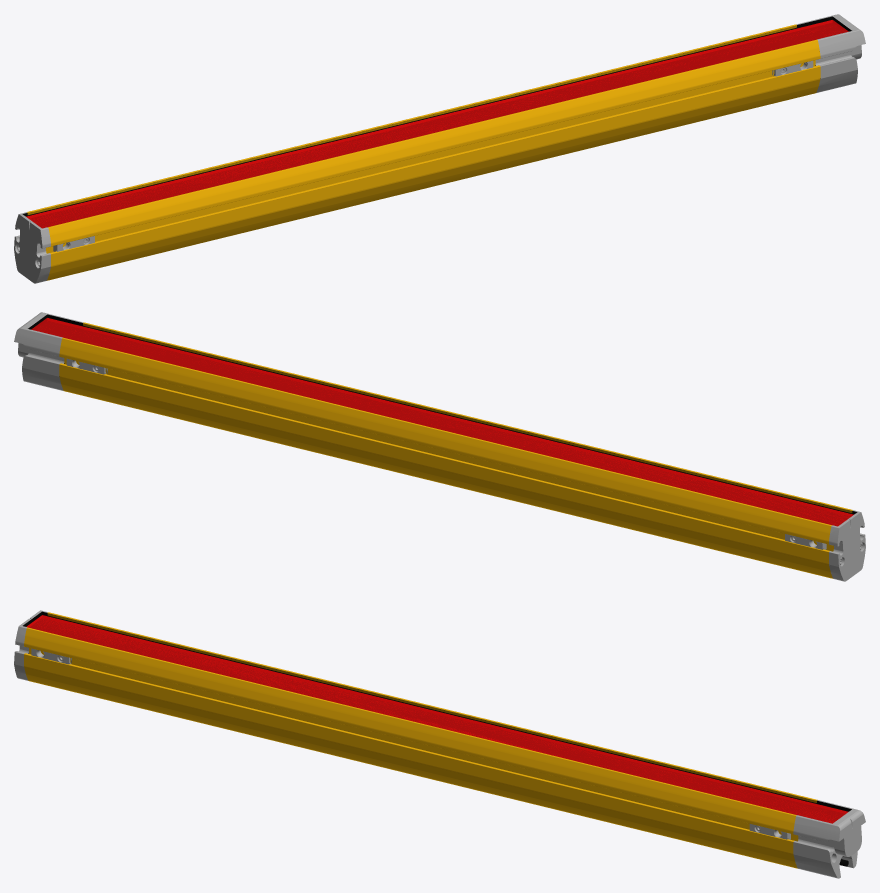
The model's file is SafetyLightCurtain_Emitter.fbx.
The picture shows the model from 3 angles, top to bottom: view 1: azimuth 30°, elevation 25°; view 2: azimuth 150°, elevation 25°; view 3: azimuth 330°, elevation 25°; orthographic projection.
Visible parts, largest first — view 1: 721011060-3_1, 721011060-2_2; view 2: 721011060-3_1, 721011060-2_2; view 3: 721011060-3_1, 721011060-2_2.
Part boxes in pixels (x1=…): 721011060-3_1: x1=14, y1=14, x2=865, y2=283; 721011060-2_2: x1=26, y1=20, x2=848, y2=228; 721011060-3_1: x1=14, y1=312, x2=865, y2=581; 721011060-2_2: x1=31, y1=318, x2=853, y2=526; 721011060-3_1: x1=14, y1=610, x2=865, y2=878; 721011060-2_2: x1=26, y1=615, x2=848, y2=823.
Size of the model in its own units: 615 by 39.2 by 34.8.
